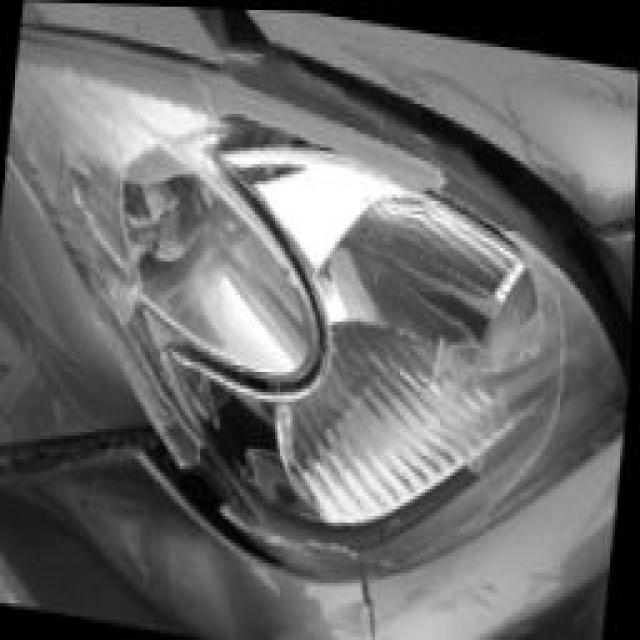Light: (10, 26, 631, 570)
